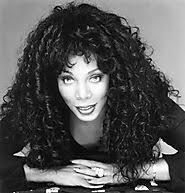black_female: (37, 6, 141, 123)
